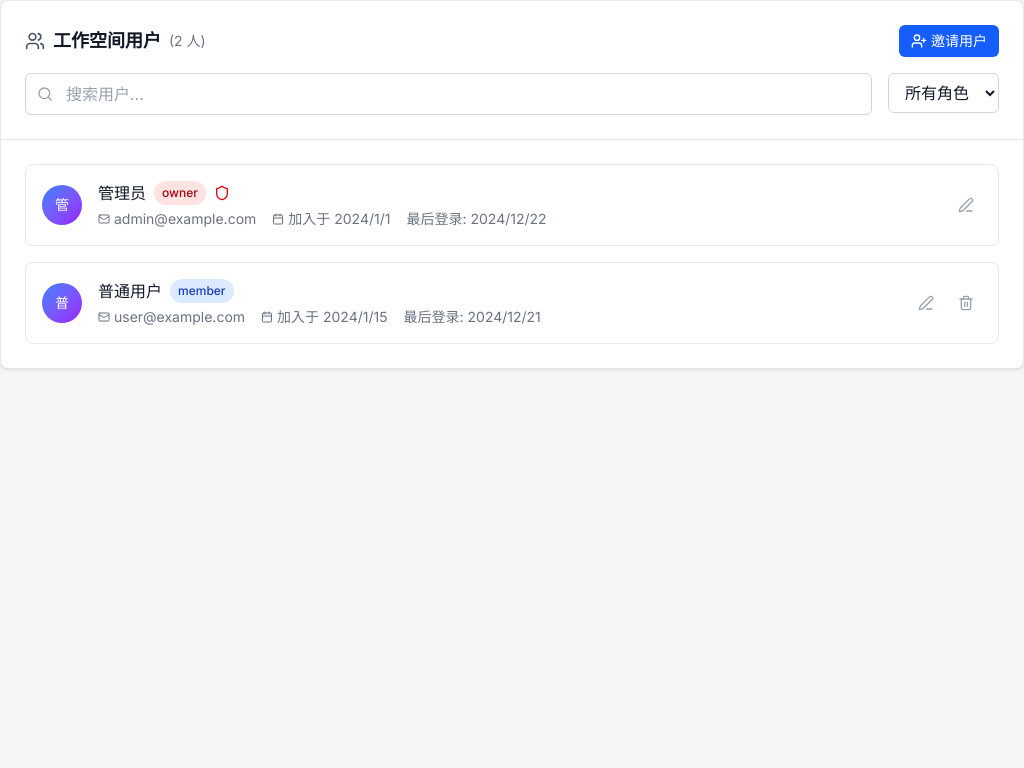
UserManager › opens invite modal
Click the button "邀请用户".
click(949, 41)  # box [899,25,999,57]
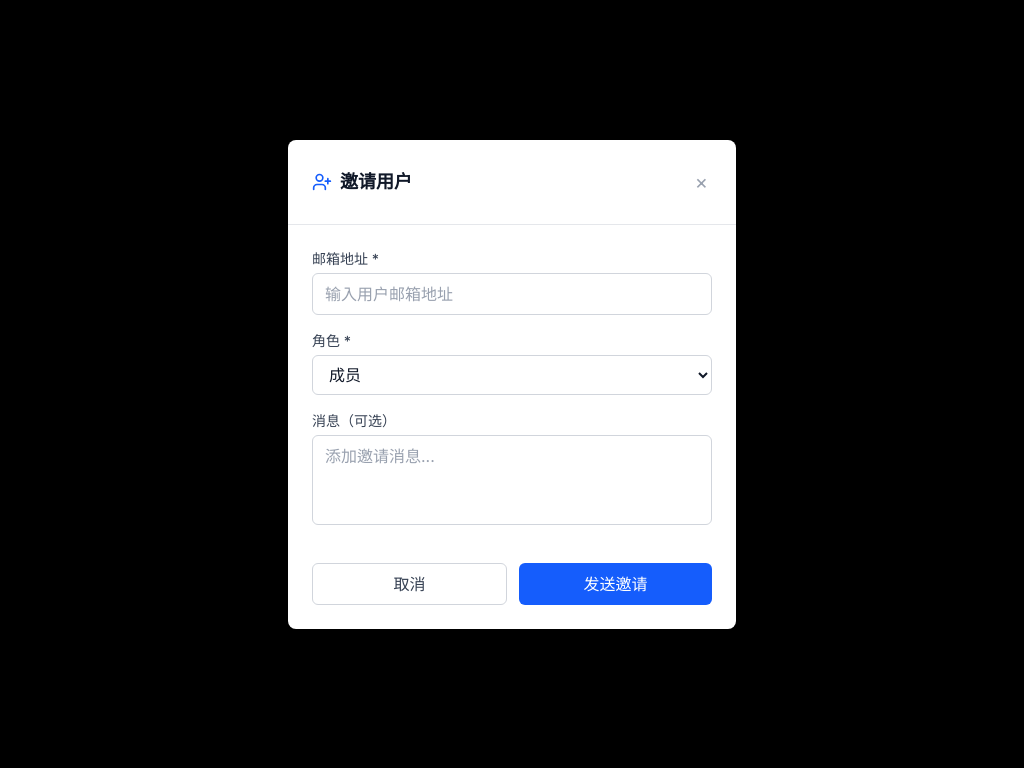
Check: the button "发送邀请" is shown, box [519,562,712,604]
